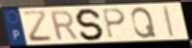I: (161, 5, 176, 39)
P: (101, 8, 128, 40)
Q: (130, 6, 158, 39)
R: (48, 9, 80, 42)
S: (75, 8, 106, 42)
Z: (21, 9, 55, 44)
